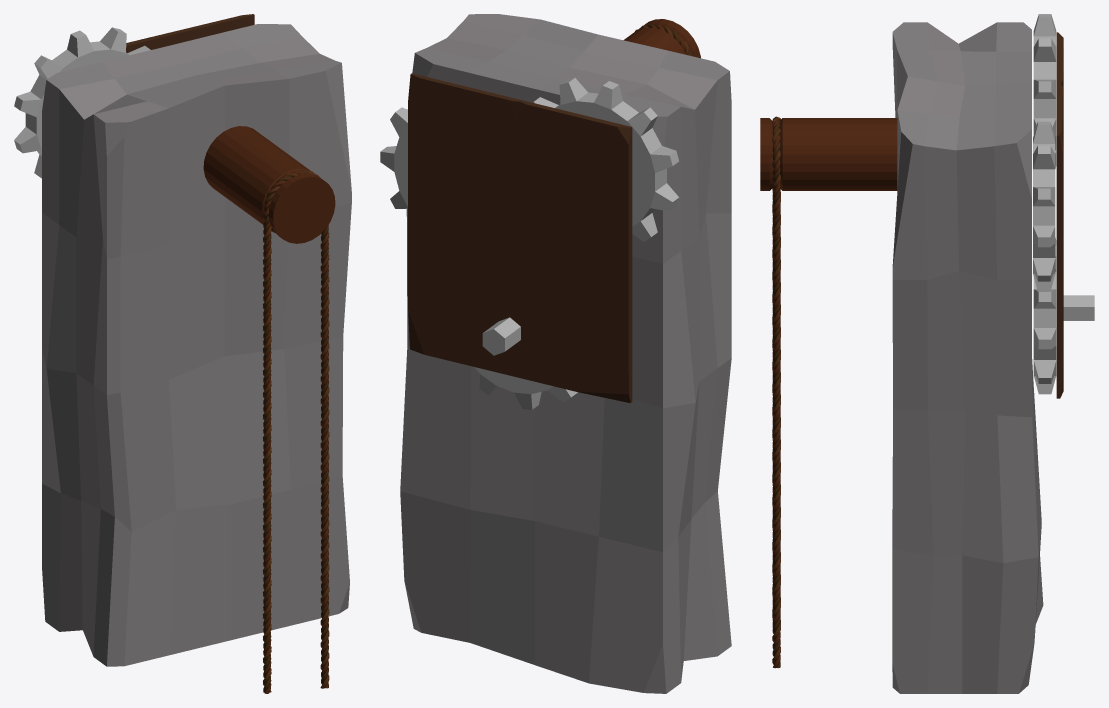
File: FBX_INT_RUIN_ZugrbrückenMechanik.fbx
3 renders of one model, left to right at view 1: azimuth 30°, elevation 25°; view 2: azimuth 150°, elevation 25°; view 3: azimuth 270°, elevation 25°, orthographic. The views are drawn at different scales.
Parts seen in each view (by area): view 1: Cube.004; view 2: Cube.004; view 3: Cube.004.
Boxes of the visible parts, box(x1,y1,x2,y2) form: Cube.004: box(14, 14, 351, 693); Cube.004: box(380, 14, 731, 693); Cube.004: box(760, 14, 1094, 693).
Size of the model in its own units: 69.24 by 140 by 71.42.
